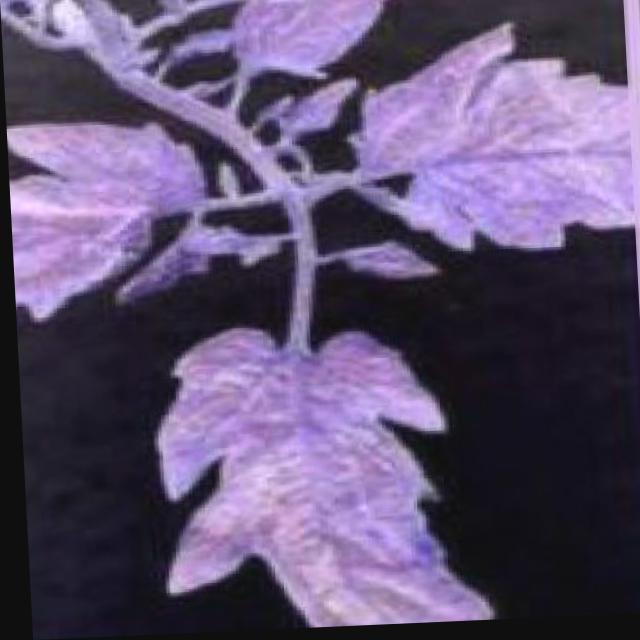Tomato yellow virus leaf: (128, 312, 497, 635), (349, 29, 636, 264), (4, 104, 218, 343)
